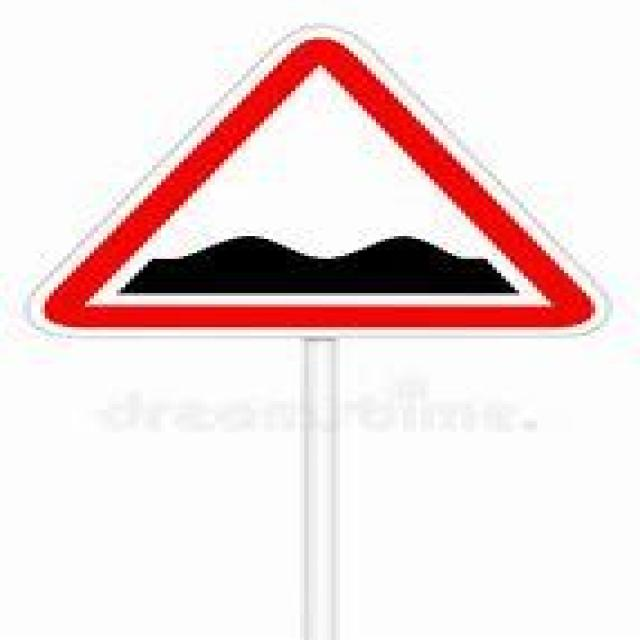BUMPS: (0, 18, 640, 345)
